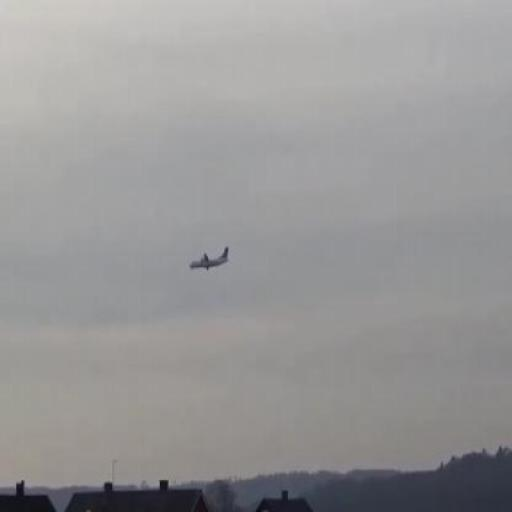aircraft: (187, 246, 227, 271)
